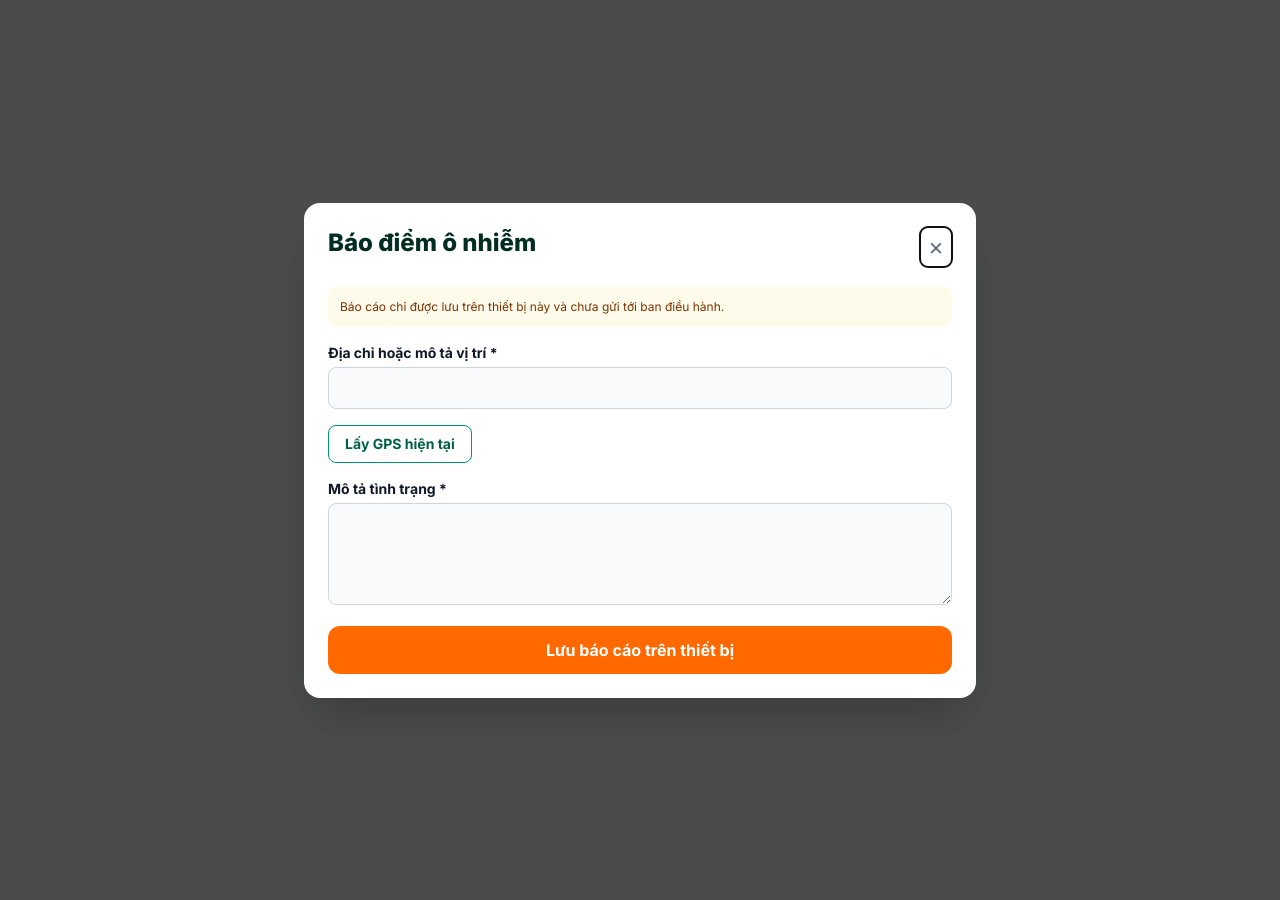
feature dialogs › falls back to manual address when GPS fails
Step 1. Click the button "Lấy GPS hiện tại" → (400, 444), box [328,424,472,462]
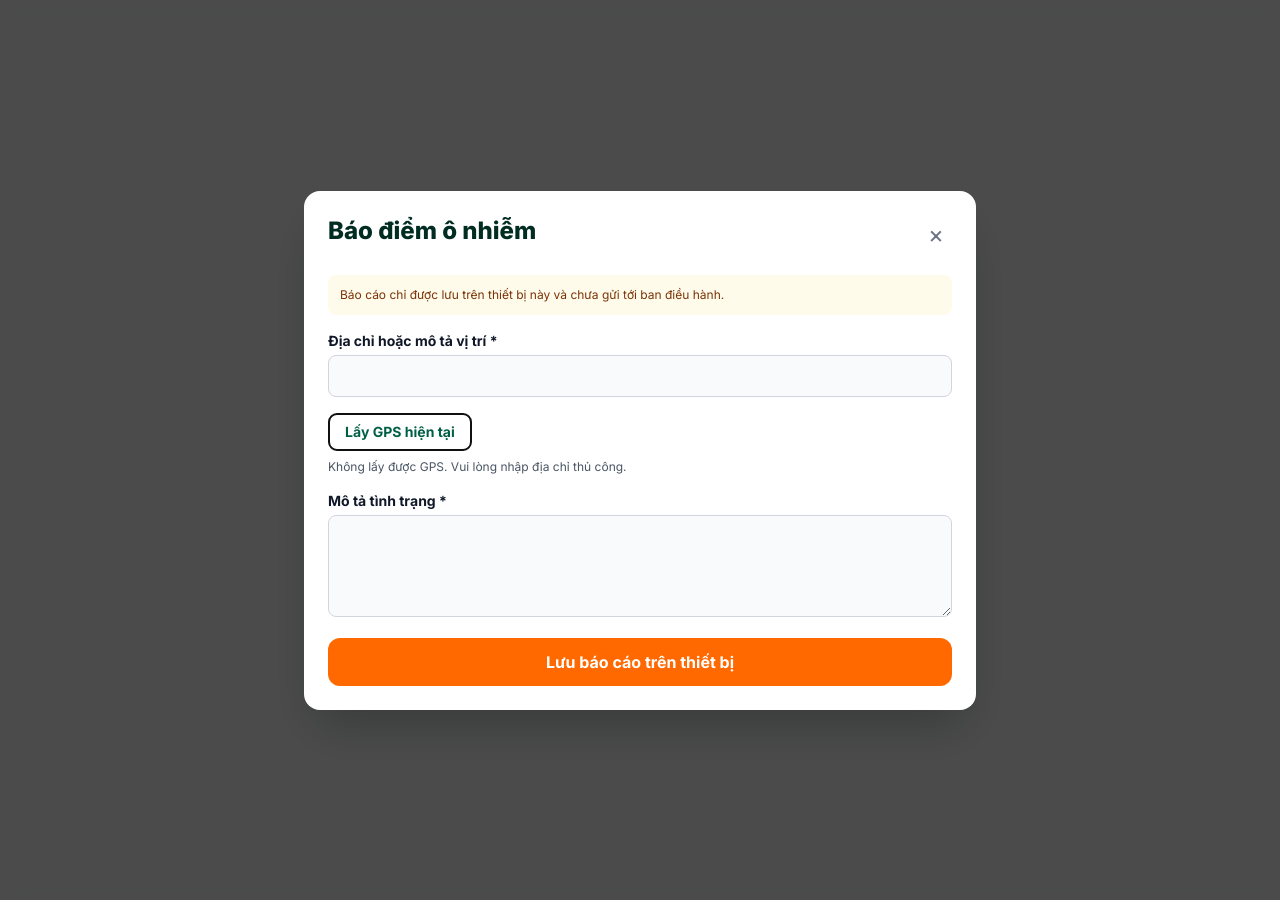
Now the text "Không lấy được GPS. Vui lòng nhập địa chỉ thủ công." is shown, box [328,458,626,474]
